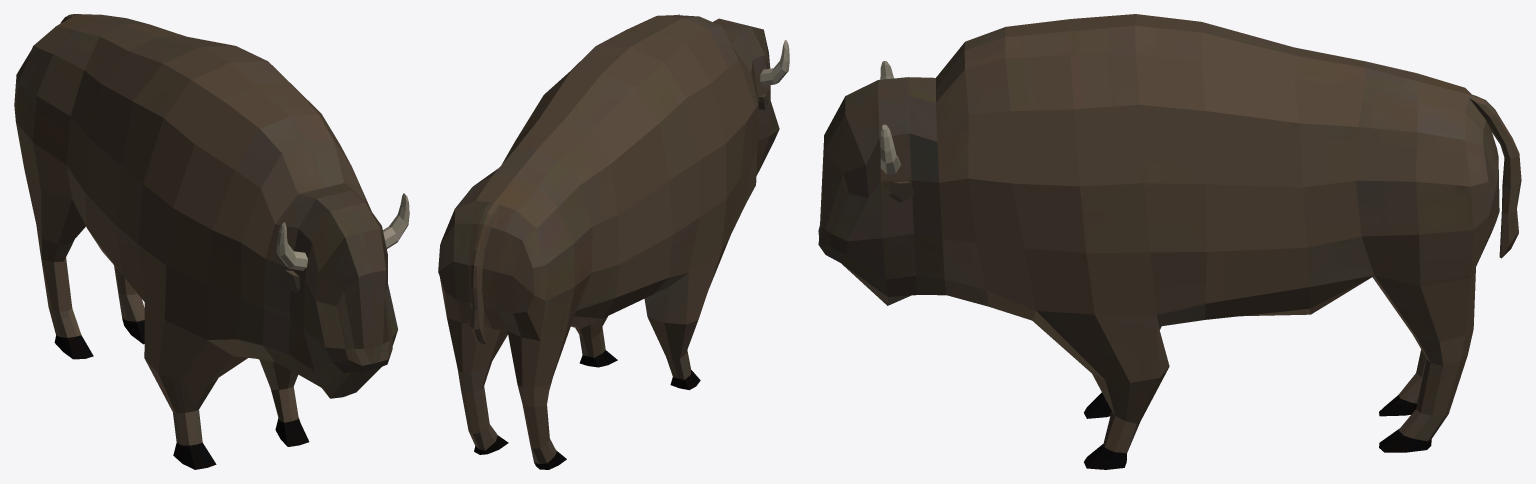
The model's file is animals-bizon-019.glb.
The picture shows the model from 3 angles, left to right: view 1: azimuth 30°, elevation 25°; view 2: azimuth 150°, elevation 25°; view 3: azimuth 270°, elevation 25°; orthographic projection. The views are drawn at different scales.
Visible parts, largest first — view 1: 04bizonFinal; view 2: 04bizonFinal; view 3: 04bizonFinal.
Boxes of the visible parts, x1,y1,x2,y2 form: 04bizonFinal: [14, 14, 409, 469]; 04bizonFinal: [438, 14, 789, 469]; 04bizonFinal: [818, 14, 1521, 469].
Size of the model in its own units: 1.16 by 2.42 by 3.74.
1 material, 1 textured.
